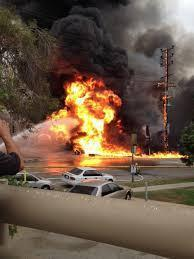fire: (57, 75, 190, 161)
